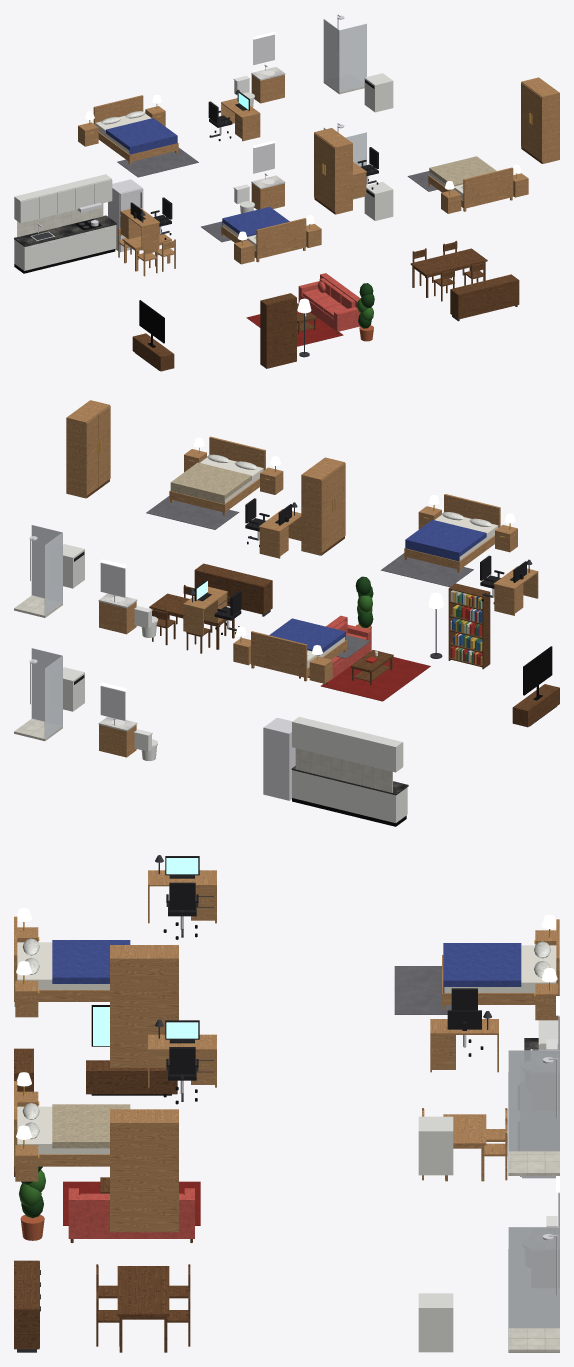
Rendered from i_american_colonial.gltf.
The picture shows the model from 3 angles, top to bottom: view 1: azimuth 30°, elevation 25°; view 2: azimuth 150°, elevation 25°; view 3: azimuth 270°, elevation 25°; orthographic projection. The views are drawn at different scales.
Parts seen in each view (by area): view 1: I_american_colonial; view 2: I_american_colonial; view 3: I_american_colonial.
Boxes of the visible parts, bbox=[...] form: I_american_colonial: bbox=[14, 14, 559, 371]; I_american_colonial: bbox=[14, 400, 559, 826]; I_american_colonial: bbox=[14, 855, 559, 1352].
Size of the model in its own units: 13.36 by 5.5 by 9.51.
Materials: 33 (12 with a texture image).
